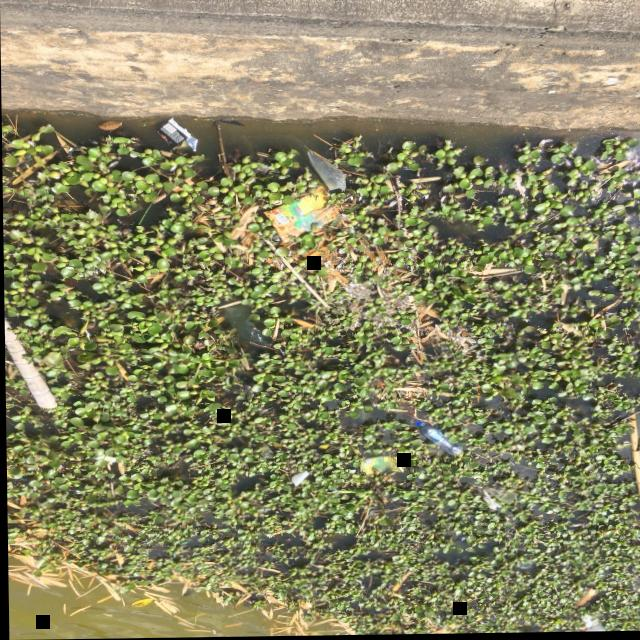Clear plastic bottle: (414, 421, 462, 456)
Other plastic: (263, 186, 340, 244), (156, 118, 197, 153), (359, 457, 405, 476)
Plastic bottle cap: (414, 421, 421, 427)
Plastic film: (306, 150, 345, 192), (479, 488, 517, 511), (239, 320, 270, 347)
Unlabeled litter: (290, 471, 308, 488), (580, 615, 597, 630), (583, 624, 604, 633), (456, 537, 465, 543)
